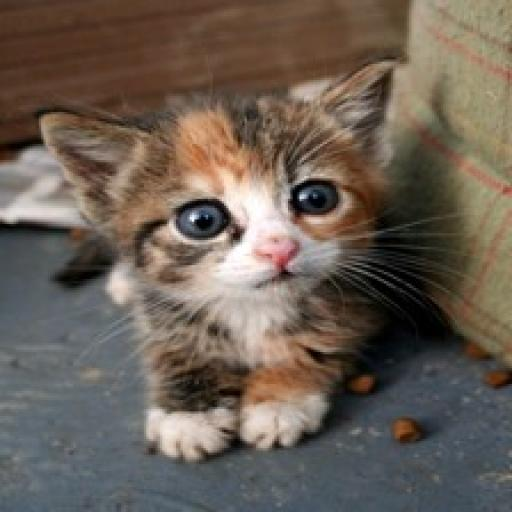cat: (29, 72, 431, 457)
